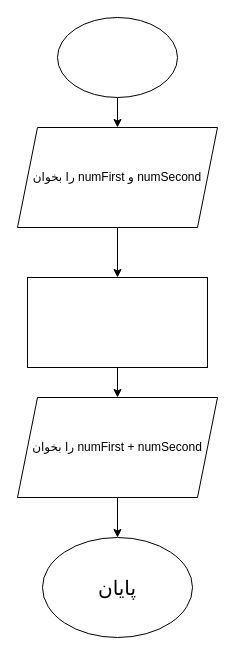
This 235x655 diagram has some shape labels left out. Here are the shapes that lost their labels. From the top down, the centre of each, then its label:
At (x=117, y=57): "شروع".
At (x=117, y=322): "numFirst + numSecond".
